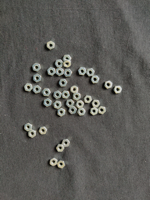nut: (47, 67, 56, 76), (33, 74, 42, 83), (47, 41, 55, 50), (33, 63, 41, 72), (55, 60, 64, 68), (63, 60, 72, 68), (91, 76, 100, 84), (64, 69, 73, 77), (59, 79, 68, 87), (24, 84, 33, 92), (114, 86, 123, 94), (84, 96, 93, 104), (53, 101, 62, 109), (66, 100, 75, 108), (58, 108, 66, 117), (69, 106, 77, 115), (98, 107, 107, 115), (62, 139, 70, 148), (50, 158, 58, 167), (79, 68, 87, 76), (87, 69, 95, 77), (56, 68, 64, 76), (105, 81, 113, 89), (71, 86, 79, 94), (33, 86, 41, 94), (54, 91, 62, 99), (62, 91, 70, 99), (73, 93, 81, 101), (44, 99, 52, 107), (76, 101, 84, 109), (92, 100, 100, 108), (78, 108, 86, 116), (91, 108, 99, 116), (28, 130, 36, 138), (39, 127, 47, 135), (58, 161, 66, 169), (42, 89, 51, 96), (25, 123, 32, 132), (56, 145, 65, 152), (63, 55, 72, 61)
